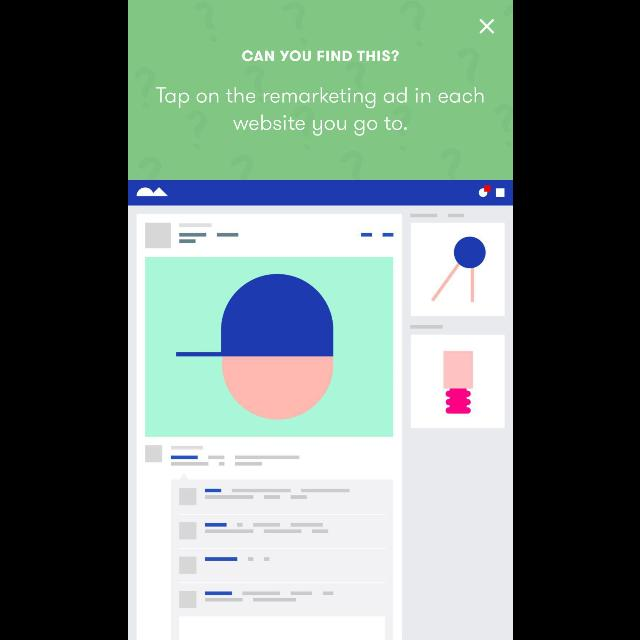icon: (478, 19, 494, 35)
image: (128, 180, 512, 640)
text: (155, 88, 483, 136), (242, 50, 398, 61)
